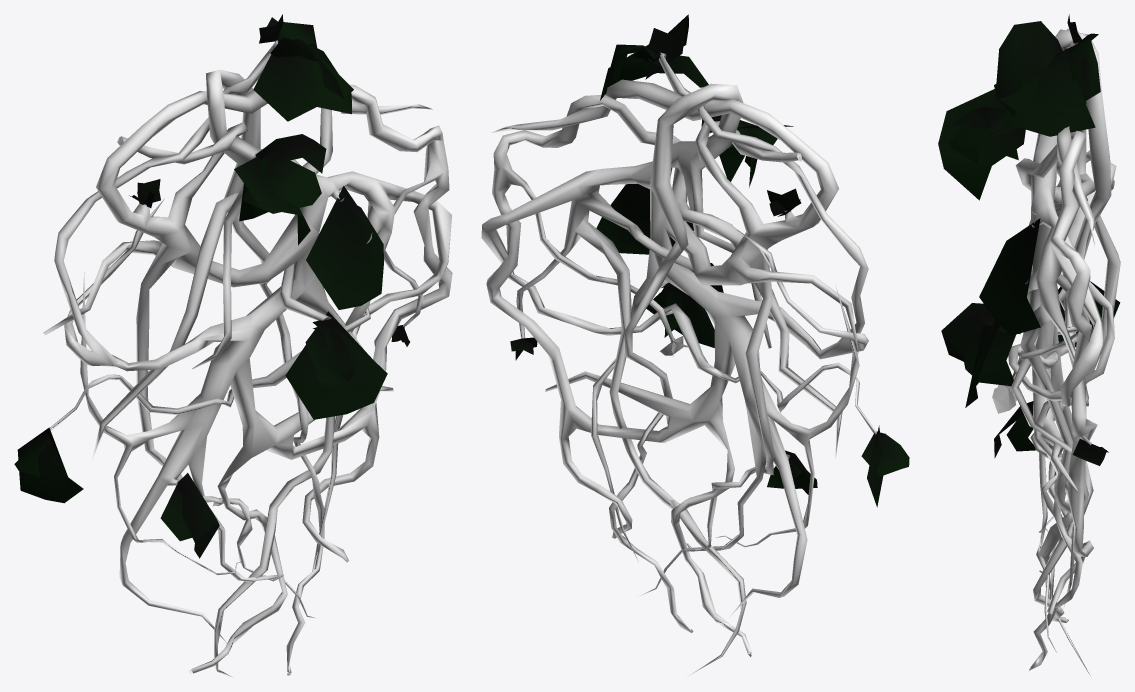
Rendered from Nature_Shield_afsTREE_LOD3.fbx.
3 views of the same model, side by side, from view 1: azimuth 30°, elevation 25°; view 2: azimuth 150°, elevation 25°; view 3: azimuth 270°, elevation 25° (orthographic). The views are drawn at different scales.
Parts seen in each view (by area): view 1: trunk_xw00_xt00, branch01.013_xw02_xt05_xp07, branch01.018_xp03, branch01.011, branch01.021_xp05, branch01.009, branch01.023_xp04, branch01.010_xp05, branch01.008_xp07, branch01.020_xp10, branch01.005_xp09, branch01.019 (+3 smaller); view 2: trunk_xw00_xt00, branch01.013_xw02_xt05_xp07, branch01.018_xp03, branch01, branch01.007_xw16_xp10, branch01.006_xw15_xt15, branch01.021_xp05, branch01.004, branch01.022; view 3: trunk_xw00_xt00, branch01.013_xw02_xt05_xp07, branch01.007_xw16_xp10, branch01.010_xp05, branch01.005_xp09, branch01.019, branch01.020_xp10, branch01.006_xw15_xt15, branch01.009, branch01.011, branch01.018_xp03, branch01.008_xp07 (+5 smaller).
Boxes of the visible parts, <box> form: trunk_xw00_xt00: <box>43,40,452,677</box>; branch01.013_xw02_xt05_xp07: <box>306,186,383,309</box>; branch01.018_xp03: <box>285,311,387,419</box>; branch01.011: <box>253,54,353,121</box>; branch01.021_xp05: <box>17,427,83,503</box>; branch01.009: <box>243,151,321,213</box>; branch01.023_xp04: <box>177,473,219,558</box>; branch01.010_xp05: <box>234,156,310,245</box>; branch01.008_xp07: <box>255,134,326,173</box>; branch01.020_xp10: <box>305,320,346,385</box>; branch01.005_xp09: <box>270,37,345,100</box>; branch01.019: <box>312,320,353,380</box>; trunk_xw00_xt00: <box>481,52,876,676</box>; branch01.013_xw02_xt05_xp07: <box>596,183,693,254</box>; branch01.018_xp03: <box>646,285,714,347</box>; branch01: <box>861,432,909,476</box>; branch01.007_xw16_xp10: <box>600,44,683,100</box>; branch01.006_xw15_xt15: <box>608,44,660,81</box>; branch01.021_xp05: <box>867,425,884,507</box>; branch01.004: <box>648,28,682,56</box>; branch01.022: <box>767,458,817,488</box>; trunk_xw00_xt00: <box>1007,28,1120,675</box>; branch01.013_xw02_xt05_xp07: <box>979,218,1040,335</box>; branch01.007_xw16_xp10: <box>1001,49,1095,136</box>; branch01.010_xp05: <box>938,89,1025,200</box>; branch01.005_xp09: <box>995,21,1062,116</box>; branch01.019: <box>941,303,1020,361</box>; branch01.020_xp10: <box>963,331,1015,386</box>; branch01.006_xw15_xt15: <box>1068,38,1100,101</box>; branch01.009: <box>950,108,1017,163</box>; branch01.011: <box>994,46,1072,118</box>; branch01.018_xp03: <box>965,320,1000,407</box>; branch01.008_xp07: <box>952,107,1005,128</box>.
Bounding box in the file's own units: 3.05 × 4.39 × 1.08.
